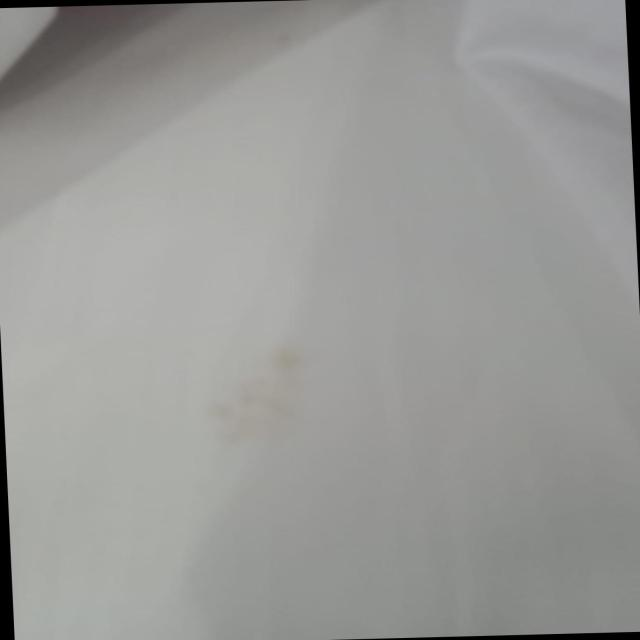stain: (194, 340, 326, 450)
